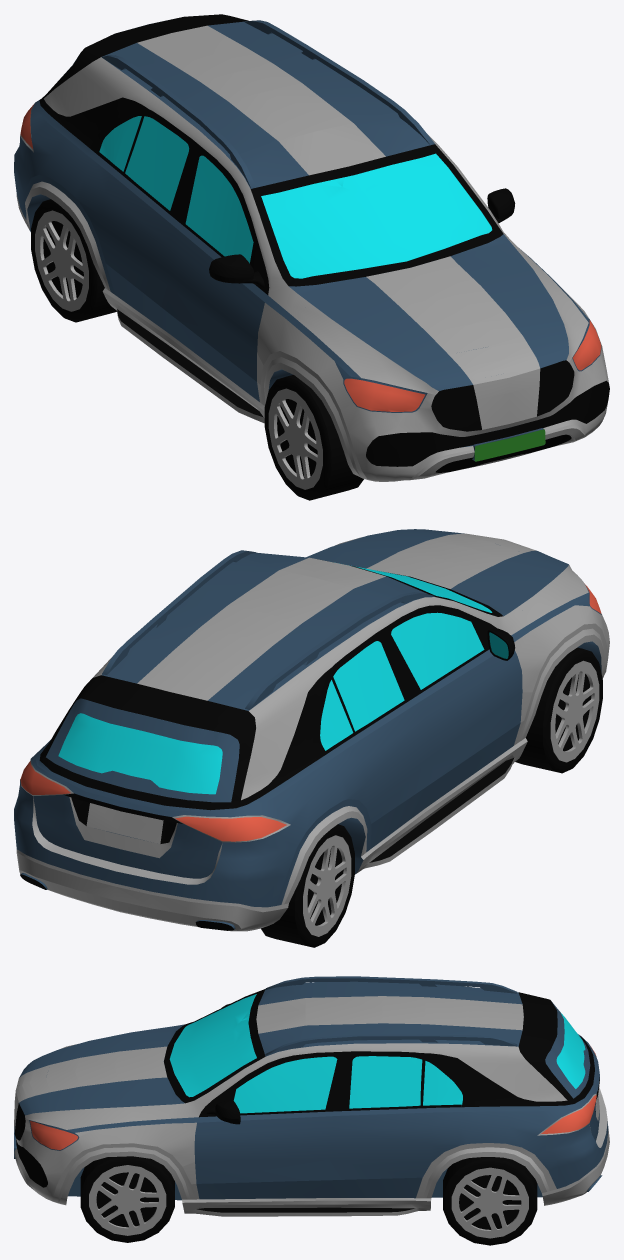
File: familycar.fbx
3 views of the same model, one above another, from view 1: azimuth 30°, elevation 25°; view 2: azimuth 150°, elevation 25°; view 3: azimuth 270°, elevation 25° (orthographic). The views are drawn at different scales.
Parts seen in each view (by area): view 1: Body, on_teker, arka_teker; view 2: Body, on_teker, arka_teker; view 3: Body, arka_teker, on_teker.
Part boxes in pixels (x1,y1,x2,y2): Body: (14, 14, 609, 481); on_teker: (264, 375, 363, 500); arka_teker: (31, 199, 117, 322); Body: (14, 529, 609, 931); on_teker: (515, 647, 602, 773); arka_teker: (261, 824, 354, 947); Body: (14, 976, 609, 1216); arka_teker: (443, 1157, 537, 1245); on_teker: (80, 1156, 174, 1242).
Bounding box in the file's own units: 3416 × 2713 × 7778.
